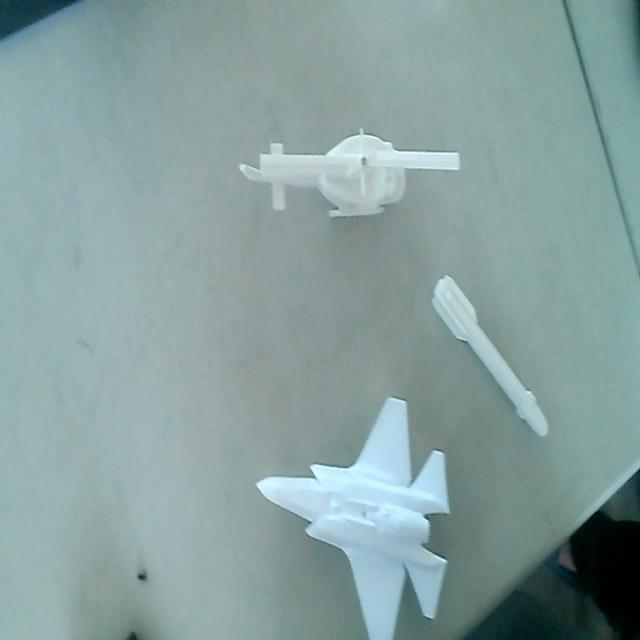Helicopter: (235, 122, 461, 224)
Jet: (251, 390, 453, 640)
Rocket: (430, 266, 552, 441)
